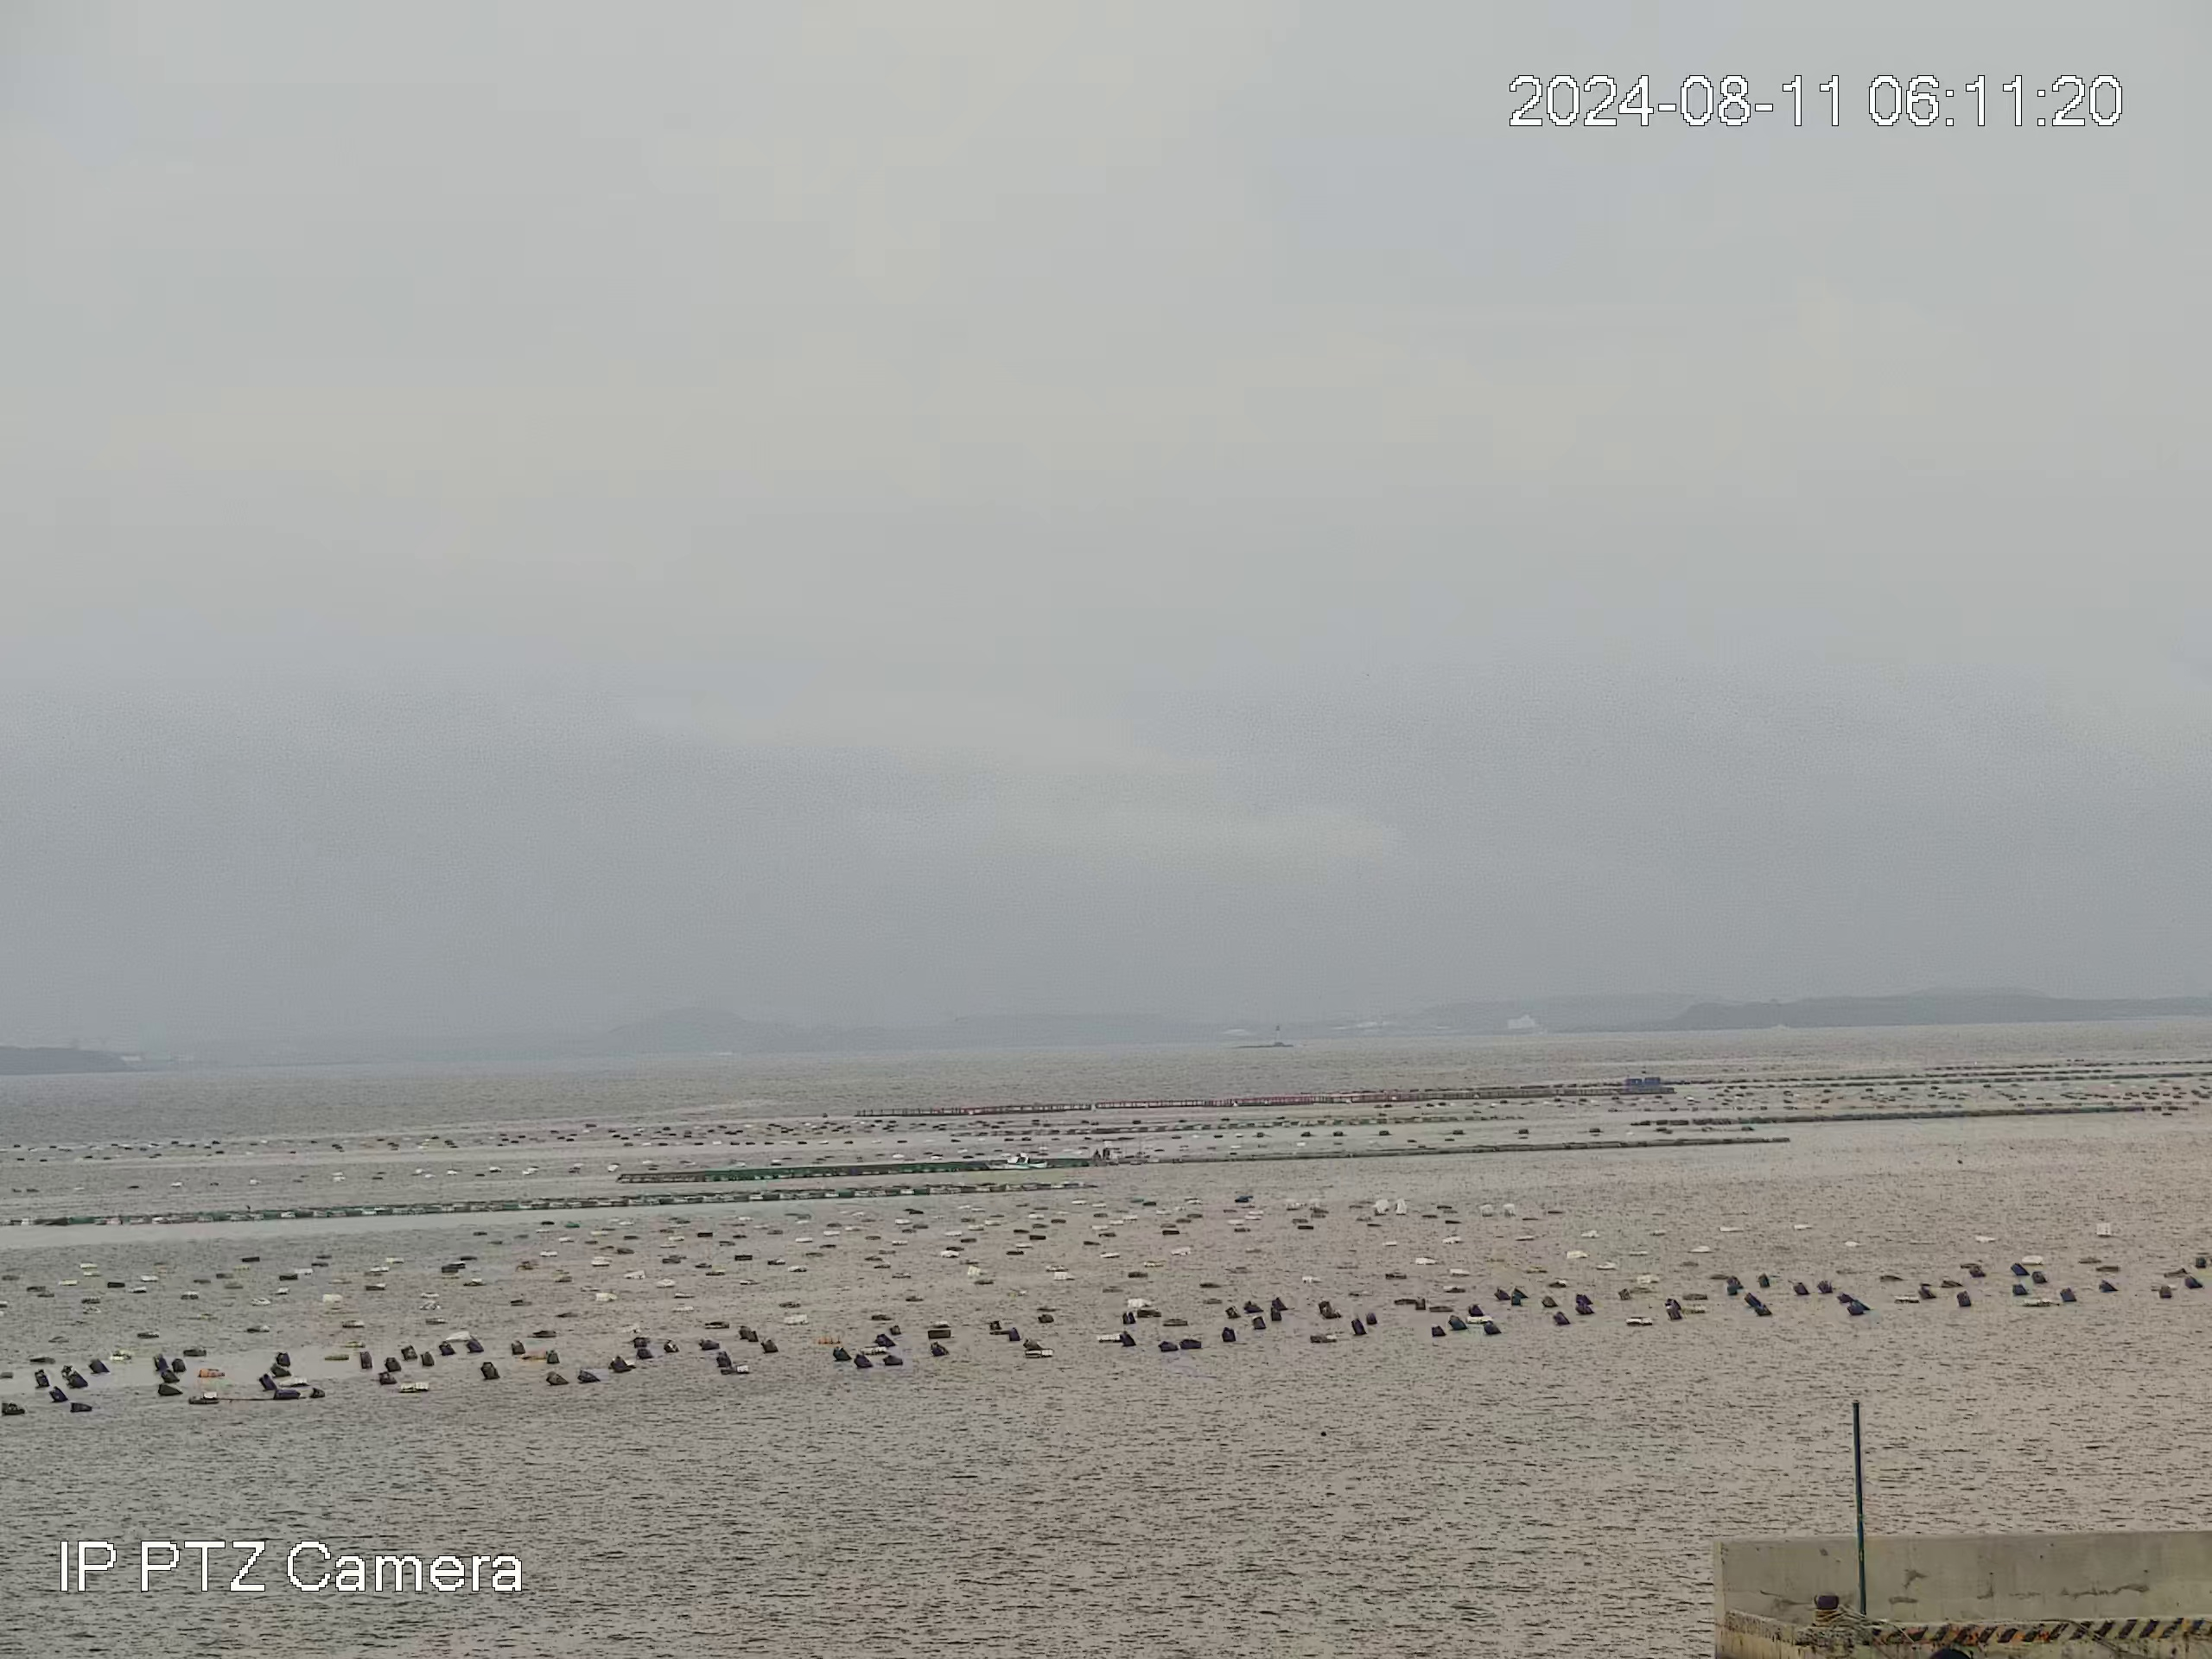boat: (982, 1150, 1050, 1171)
